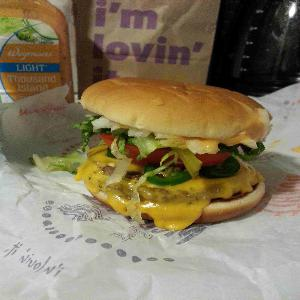cheeseburger_475cal: (70, 63, 281, 226)
